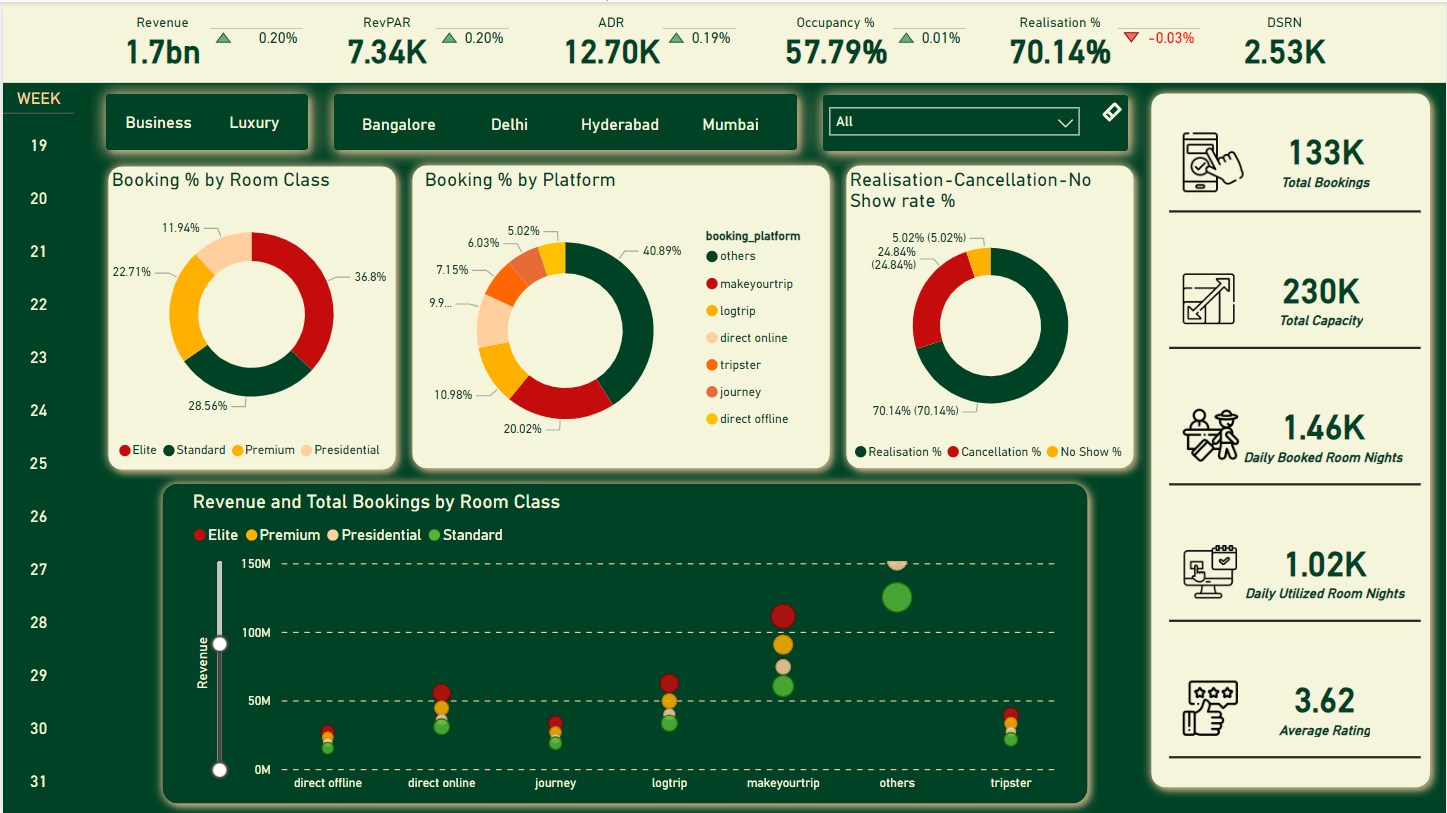

What the dashboard file says about the page in this screenshot:
{"tool":"powerbi","page":{"name":"Page 2","canvas":[1280,720],"ordinal":1},"visuals":[{"type":"shape","box":[1008.9,71.7,265.2,633.6],"z":0},{"type":"shape","box":[0,0,1280,71.7],"z":1000},{"type":"cardVisual","fields":{"Data":["Key Measures (2).Revenue","Key Measures (2).RevPAR","Key Measures (2).ADR","Key Measures (2).Occupancy %","Key Measures (2).Realisation %","Key Measures (2).DSRN"]},"box":[40.8,0,1198.8,71.8],"z":2000},{"type":"advancedSlicerVisual","title":"WEEK","fields":{"Values":["dim_date.wn"]},"box":[0,77.3,63.2,642.5],"z":3000},{"type":"tableEx","fields":{"Values":["Key Measures (2).Revenue WoW change %"]},"box":[177.3,0,103.7,44.3],"z":4000},{"type":"tableEx","fields":{"Values":["Key Measures (2).Revpar WoW change %"]},"box":[377.7,0,102,44.3],"z":5000},{"type":"tableEx","fields":{"Values":["Key Measures (2).ADR WoW change %"]},"box":[579,0,94,44.3],"z":6000},{"type":"tableEx","fields":{"Values":["Key Measures (2).Occupancy WoW change %"]},"box":[783,0,106.4,44.3],"z":7000},{"type":"tableEx","fields":{"Values":["Key Measures (2).Realisation WoW change %"]},"box":[982.5,0,96.7,44.3],"z":8000},{"type":"shape","title":"hotel cate Shape","box":[132.1,417.6,838.8,302.4],"z":10000},{"type":"cardVisual","fields":{"Data":["Key Measures (2).Total Bookings","Key Measures (2).Total Capacity","Key Measures (2).DBRN","Key Measures (2).DURN","Key Measures (2).Average Rating"]},"box":[1016.7,80.6,257.4,607.1],"z":11000},{"type":"scatterChart","title":"Revenue and Total Bookings by Room Class","fields":{"X":["fact_bookings.booking_platform"],"Y":["Key Measures (2).Revenue"],"Series":["dim_rooms.room_class"],"Size":["Key Measures (2).Total Bookings"]},"box":[163.2,432.7,776.7,273.1],"z":12000},{"type":"shape","title":"realisation Shape","box":[738.9,136,273,287],"z":13000},{"type":"shape","box":[353.9,136,388.4,287],"z":14000},{"type":"shape","title":"room class Shape","box":[84.2,136.6,273.1,287.3],"z":15000},{"type":"donutChart","title":"Realisation-Cancellation-No Show rate %","fields":{"Y":["Key Measures (2).Realisation %","Key Measures (2).Cancellation %","Key Measures (2).No Show rate %"]},"box":[745.7,147,259.8,269.6],"z":16000},{"type":"donutChart","title":"Booking % by Platform","fields":{"Y":["Key Measures (2).Booking % by Platform"],"Category":["fact_bookings.booking_platform"]},"box":[368.9,147.2,365.3,269.6],"z":17000},{"type":"donutChart","title":"Booking % by Room Class","fields":{"Y":["Key Measures (2).temp"],"Category":["dim_rooms.room_class"]},"box":[91.3,147,258,268.7],"z":18000},{"type":"shape","title":"hotel city Shape","box":[279.3,67.4,438.9,78],"z":19000},{"type":"shape","title":"hotel cate Shape","box":[77.1,67.4,207.5,78],"z":20000},{"type":"advancedSlicerVisual","fields":{"Values":["dim_hotels.category"]},"box":[90.4,80.7,181.8,50.5],"z":21000},{"type":"advancedSlicerVisual","fields":{"Values":["dim_hotels.city"]},"box":[297,82.5,404.3,48.8],"z":22000},{"type":"shape","title":"clear filter Shape","box":[712.9,68.3,298.8,78],"z":23000,"group":"g1"},{"type":"slicer","fields":{"Values":["dim_hotels.property_name","dim_hotels.property_id"]},"box":[722.7,83.4,242.1,48.8],"z":24000,"group":"g1"},{"type":"actionButton","box":[970.1,84.9,27,24.8],"z":26000,"group":"g1"},{"type":"group","id":"g1","title":"Group 1","box":[712.9,68.3,298.8,78],"z":26001}]}

Visuals, with their boxes in screenshot pixels (x1, y1, x2, y2), scaled from the page's 1280x720 canvas onto the 1447x813 screenshot:
shape: x1=1141 y1=81 x2=1440 y2=796
shape: x1=0 y1=0 x2=1446 y2=81
cardVisual - Key Measures (2).Revenue x Key Measures (2).RevPAR: x1=46 y1=0 x2=1401 y2=81
"WEEK" advancedSlicerVisual: x1=0 y1=87 x2=71 y2=812
tableEx - Key Measures (2).Revenue WoW change %: x1=200 y1=0 x2=318 y2=50
tableEx - Key Measures (2).Revpar WoW change %: x1=427 y1=0 x2=542 y2=50
tableEx - Key Measures (2).ADR WoW change %: x1=655 y1=0 x2=761 y2=50
tableEx - Key Measures (2).Occupancy WoW change %: x1=885 y1=0 x2=1005 y2=50
tableEx - Key Measures (2).Realisation WoW change %: x1=1111 y1=0 x2=1220 y2=50
"hotel cate Shape" shape: x1=149 y1=472 x2=1098 y2=812
cardVisual - Key Measures (2).Total Bookings x Key Measures (2).Total Capacity: x1=1149 y1=91 x2=1440 y2=777
"Revenue and Total Bookings by Room Class" scatterChart: x1=184 y1=489 x2=1063 y2=797
"realisation Shape" shape: x1=835 y1=154 x2=1144 y2=478
shape: x1=400 y1=154 x2=839 y2=478
"room class Shape" shape: x1=95 y1=154 x2=404 y2=479
"Realisation-Cancellation-No Show rate %" donutChart: x1=843 y1=166 x2=1137 y2=470
"Booking % by Platform" donutChart: x1=417 y1=166 x2=830 y2=471
"Booking % by Room Class" donutChart: x1=103 y1=166 x2=395 y2=469
"hotel city Shape" shape: x1=316 y1=76 x2=812 y2=164
"hotel cate Shape" shape: x1=87 y1=76 x2=322 y2=164
advancedSlicerVisual - dim_hotels.category: x1=102 y1=91 x2=308 y2=148
advancedSlicerVisual - dim_hotels.city: x1=336 y1=93 x2=793 y2=148
"clear filter Shape" shape: x1=806 y1=77 x2=1144 y2=165
slicer - dim_hotels.property_name x dim_hotels.property_id: x1=817 y1=94 x2=1091 y2=149
actionButton: x1=1097 y1=96 x2=1127 y2=124
"Group 1" group: x1=806 y1=77 x2=1144 y2=165
